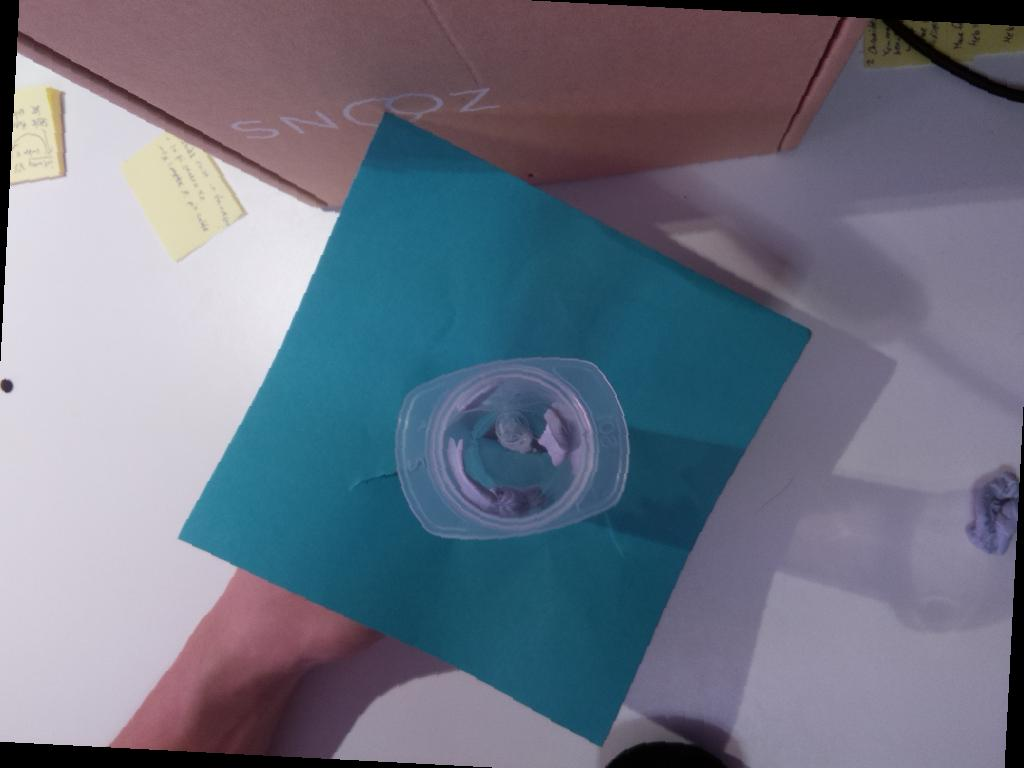dirty: (384, 349, 643, 541)
